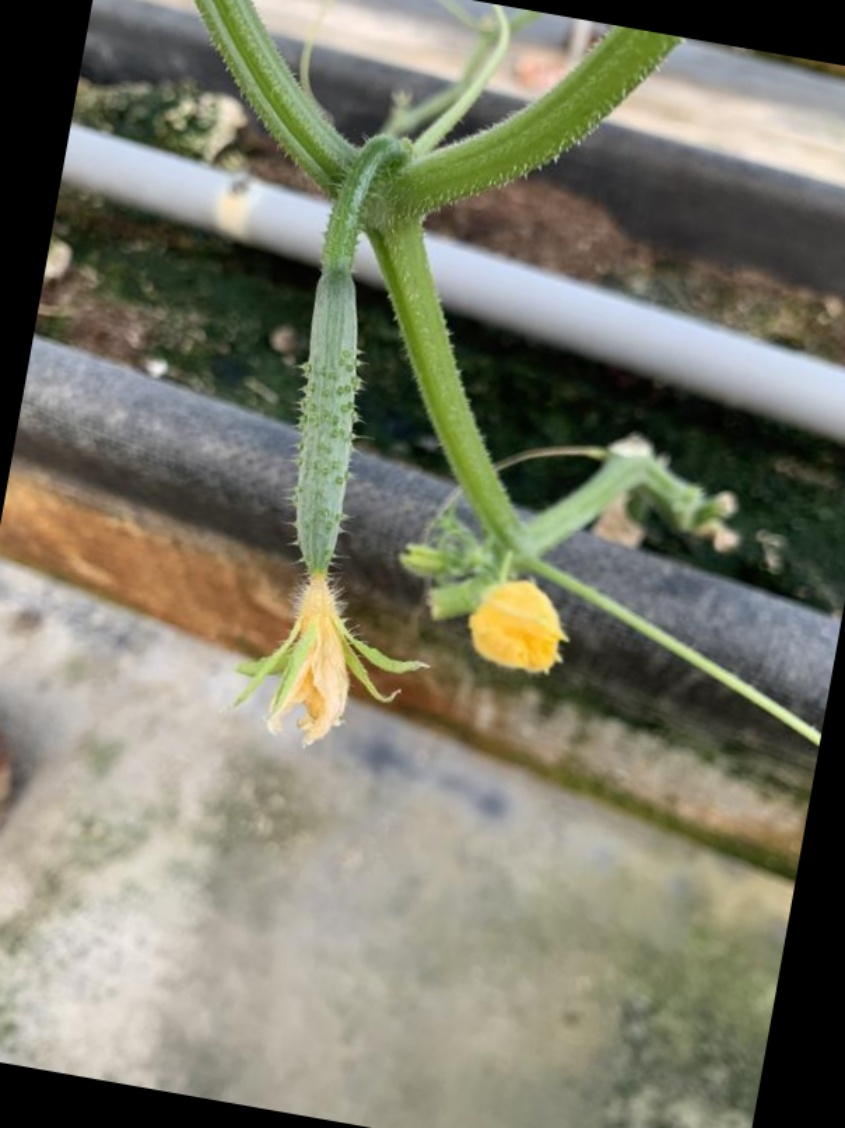bear: (223, 242, 411, 746)
